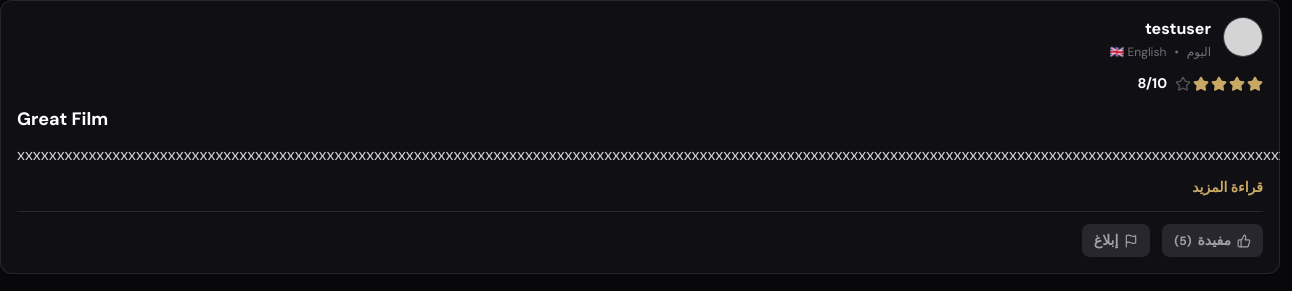
Test: ReviewCard - Read More expansion › should expand text when "Read More" is clicked
The width and height of the screenshot is (1292, 291).
Step 1. Click the button "قراءة المزيد" → x=1228, y=188, box 1192,177 -> 1263,198
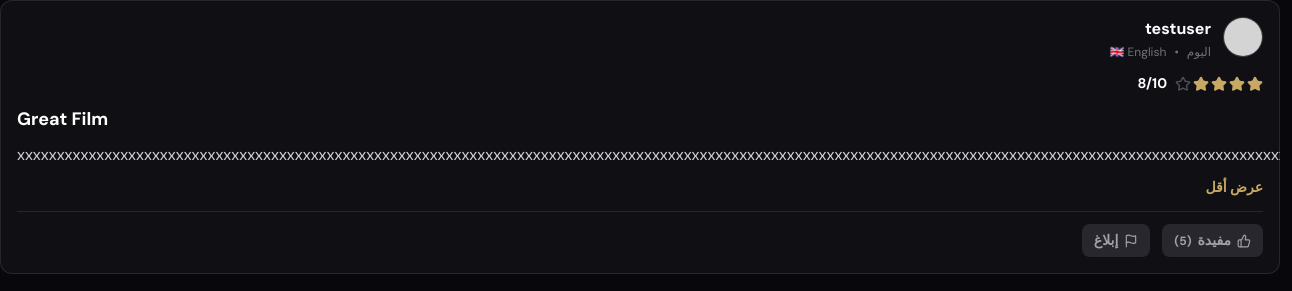
Result: the button "عرض أقل" is shown at 1206,177 -> 1263,198
